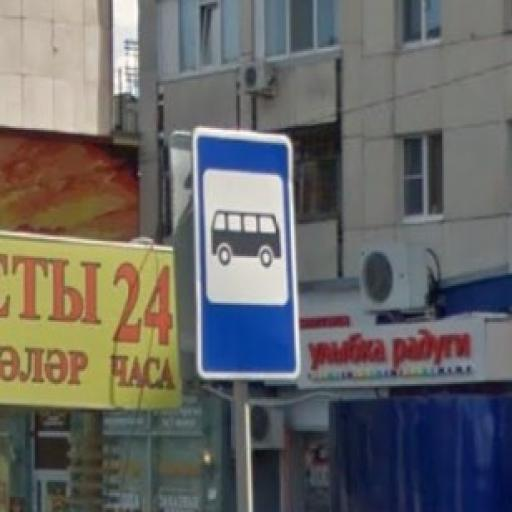traffic_sign: (192, 125, 304, 383)
